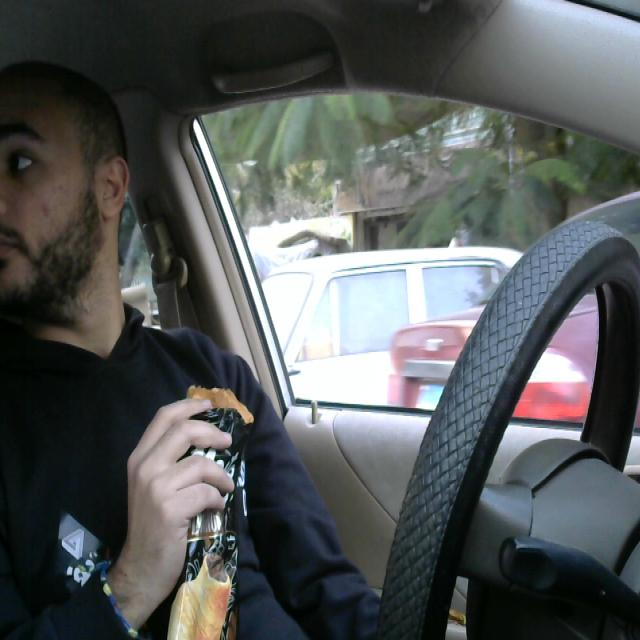eating: (171, 359, 262, 640)
